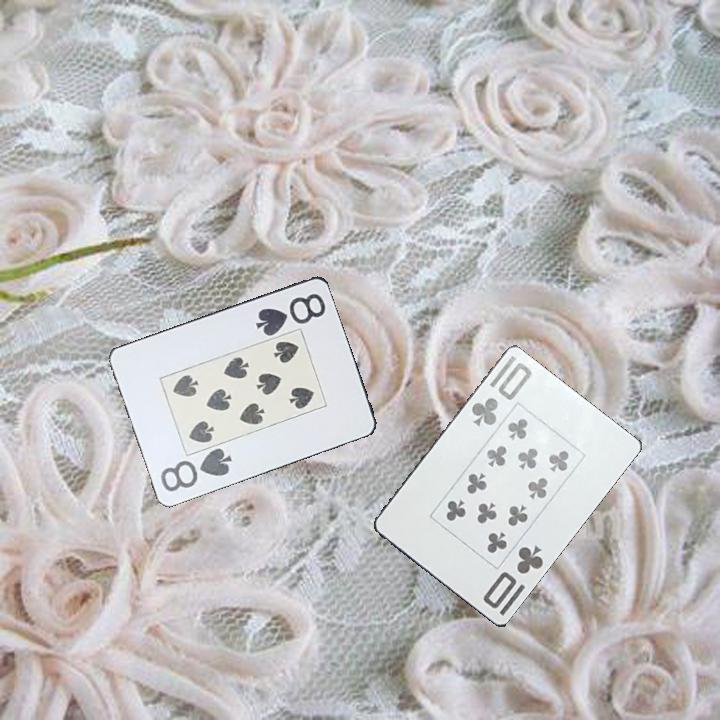8s: (157, 444, 235, 495), (252, 289, 329, 338)
Tc: (463, 352, 537, 430), (479, 542, 547, 612)
